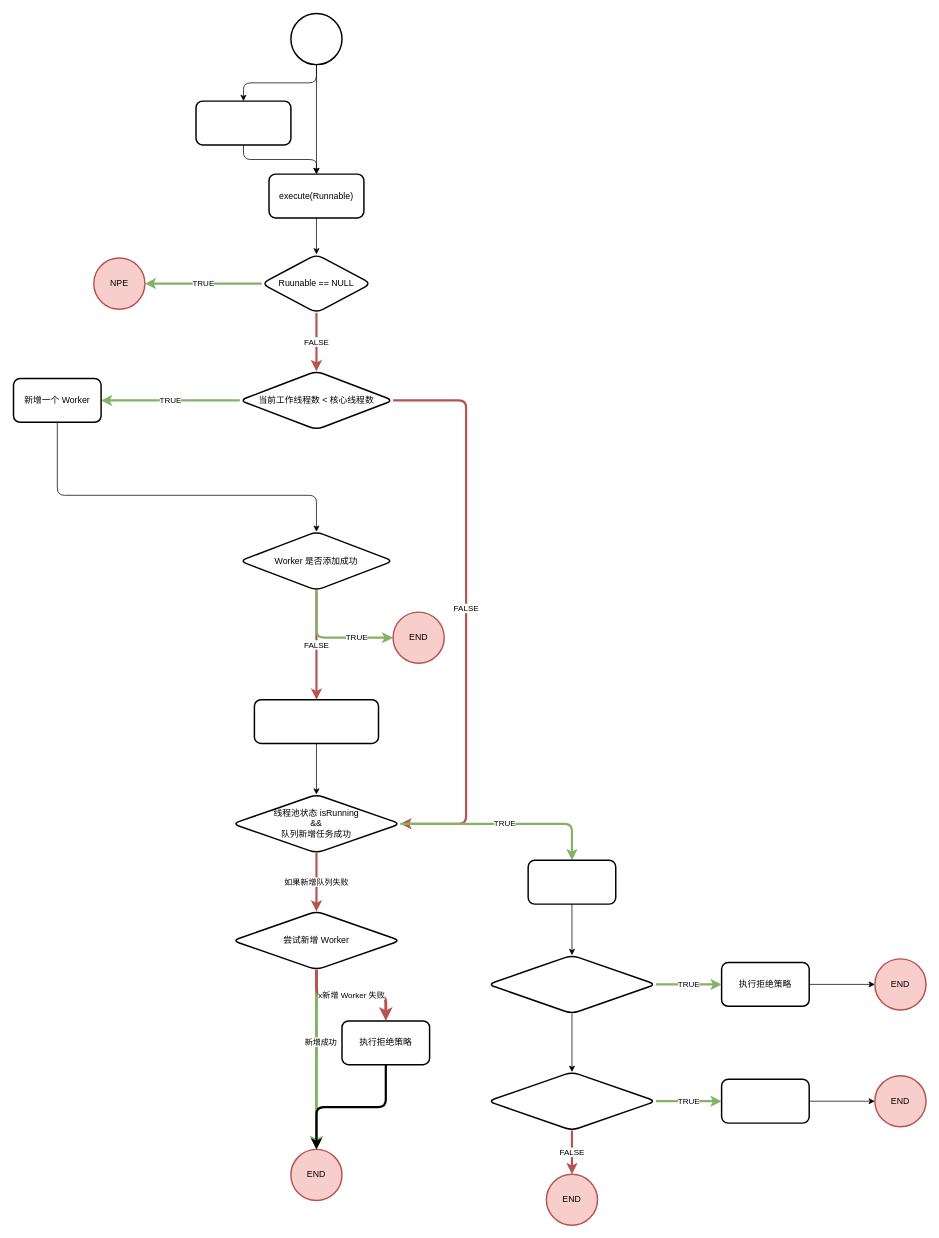
Some shapes in this 939 by 1238 pixel diagram are drawn without their labels. Here are the shapes that lost their labels. From the top down, the centre of each, then its label:
point (316, 38): Runnable
point (243, 122): submit(Runnable)
point (316, 721): 重新获取当前线程池状态 ctl.get()
point (571, 881): 重新获取线程池状态
point (571, 984): 线程池非运行状态 && 从队列中删除该任务 (Runnable)
point (571, 1101): 非核心线程数 == 0
point (765, 1100): 新增 Worker
